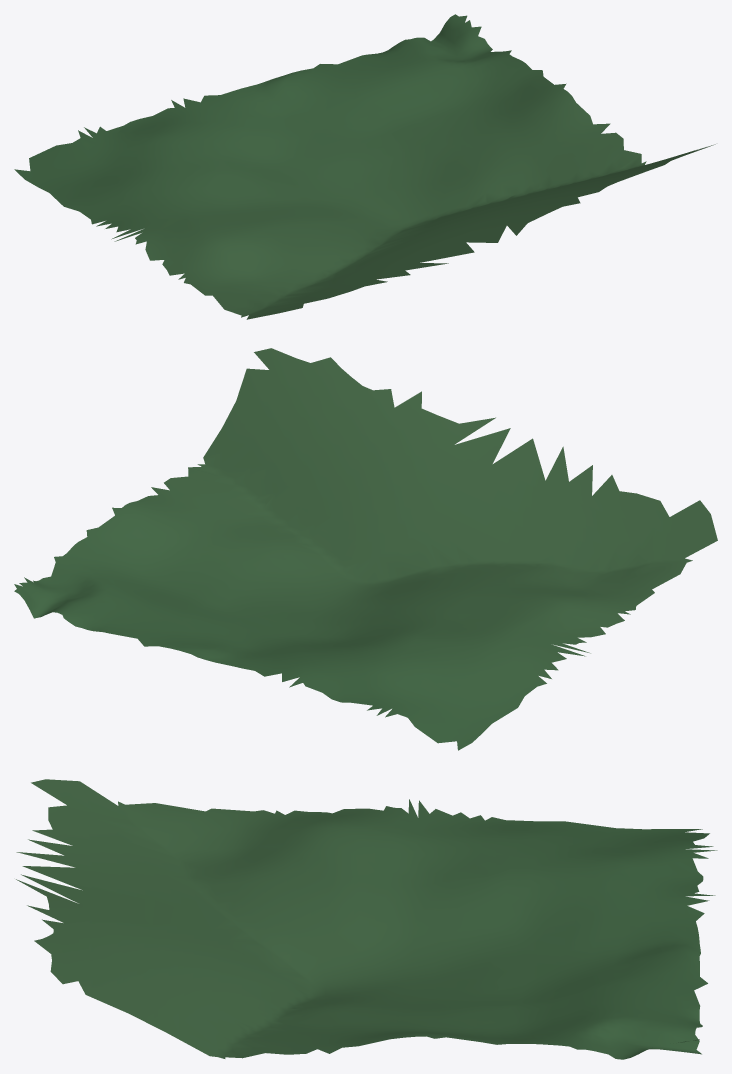
Rendered from payo_land_xm2_y9.glb.
3 renders of one model, top to bottom at view 1: azimuth 30°, elevation 25°; view 2: azimuth 150°, elevation 25°; view 3: azimuth 270°, elevation 25°, orthographic. The views are drawn at different scales.
Visible parts, largest first — view 1: payo_land_xm2_y9; view 2: payo_land_xm2_y9; view 3: payo_land_xm2_y9.
Boxes of the visible parts, box(x1,y1,x2,y2) form: payo_land_xm2_y9: box(14, 14, 715, 319); payo_land_xm2_y9: box(14, 348, 717, 750); payo_land_xm2_y9: box(16, 779, 717, 1059).
Bounding box in the file's own units: 271 × 59.54 × 276.
